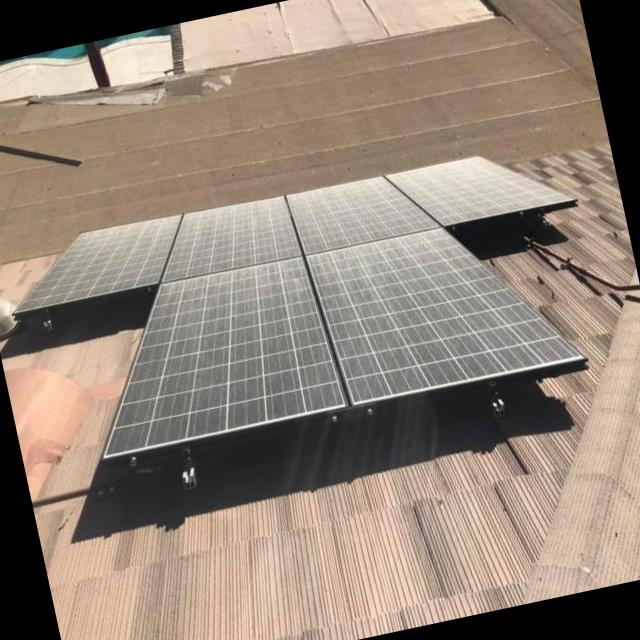faulty: (18, 153, 587, 454)
